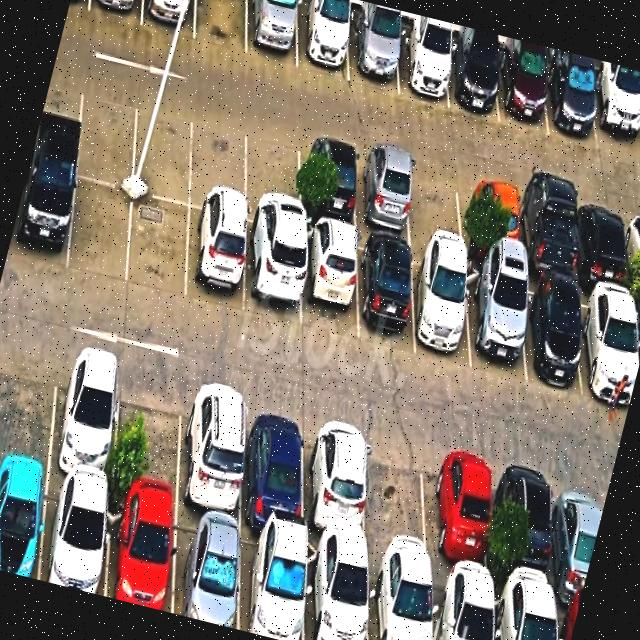empty: (113, 361, 183, 507), (365, 425, 430, 570), (0, 331, 59, 472), (132, 92, 195, 205), (67, 177, 133, 284), (127, 193, 189, 302), (76, 78, 137, 188), (189, 107, 245, 218), (245, 120, 299, 234), (407, 158, 463, 250), (194, 0, 247, 54)
occupied: (48, 344, 120, 490), (178, 378, 245, 523), (241, 394, 304, 536), (304, 409, 366, 553), (431, 439, 489, 585), (39, 476, 109, 596), (106, 493, 174, 613), (172, 510, 239, 629), (6, 160, 76, 270), (502, 455, 555, 598), (238, 527, 304, 640), (465, 264, 526, 382), (518, 276, 581, 390), (577, 285, 636, 404), (412, 248, 470, 368), (357, 235, 415, 351), (555, 468, 604, 604), (301, 222, 356, 340), (185, 208, 245, 313), (305, 542, 367, 640), (244, 223, 299, 328), (516, 184, 574, 282), (0, 466, 48, 579), (300, 134, 356, 229), (462, 172, 518, 266), (357, 146, 411, 240), (368, 560, 431, 640), (575, 197, 628, 289), (546, 57, 597, 149), (590, 71, 640, 160), (498, 46, 548, 134), (445, 38, 498, 121), (396, 25, 448, 107), (431, 572, 493, 640), (297, 0, 349, 80), (348, 13, 398, 92), (246, 0, 296, 68), (494, 586, 555, 640), (141, 0, 195, 38), (88, 0, 142, 25), (625, 208, 640, 290)
